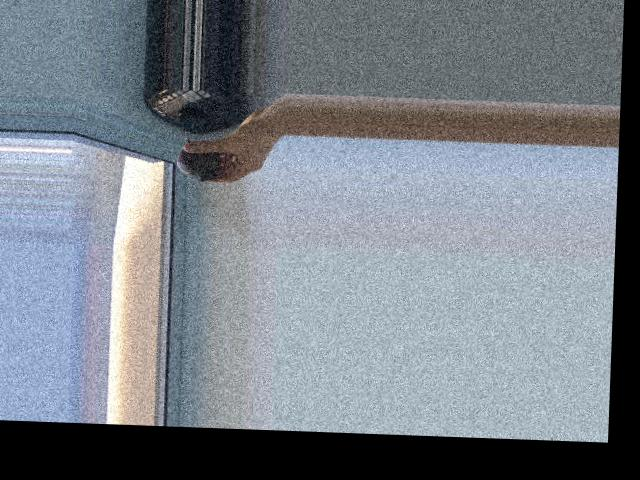beet: (175, 137, 226, 182)
